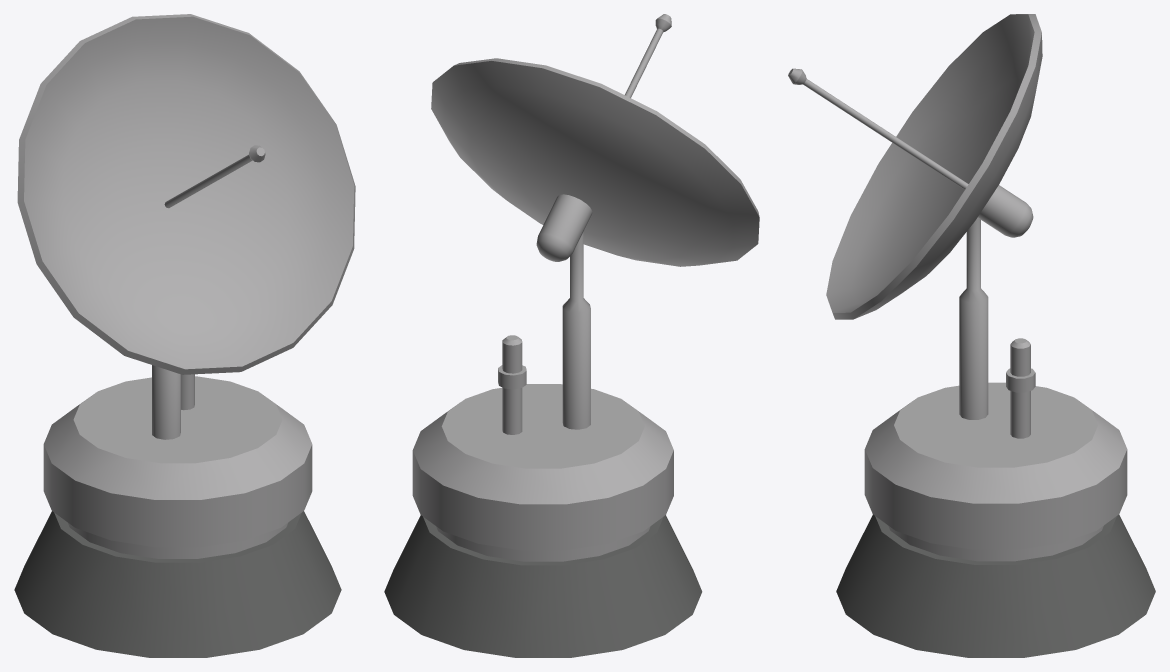
File: Roof_Radar_Cylinder.obj
3 views of the same model, side by side, from view 1: azimuth 30°, elevation 25°; view 2: azimuth 150°, elevation 25°; view 3: azimuth 270°, elevation 25° (orthographic). The views are drawn at different scales.
Visible parts, largest first — view 1: Roof_Radar_Cylinder.008; view 2: Roof_Radar_Cylinder.008; view 3: Roof_Radar_Cylinder.008.
Part boxes in pixels (x1=…): Roof_Radar_Cylinder.008: x1=14, y1=14, x2=355, y2=657; Roof_Radar_Cylinder.008: x1=384, y1=14, x2=759, y2=657; Roof_Radar_Cylinder.008: x1=788, y1=14, x2=1155, y2=657.
Bounding box in the file's own units: 1.63 × 2.71 × 1.65.
